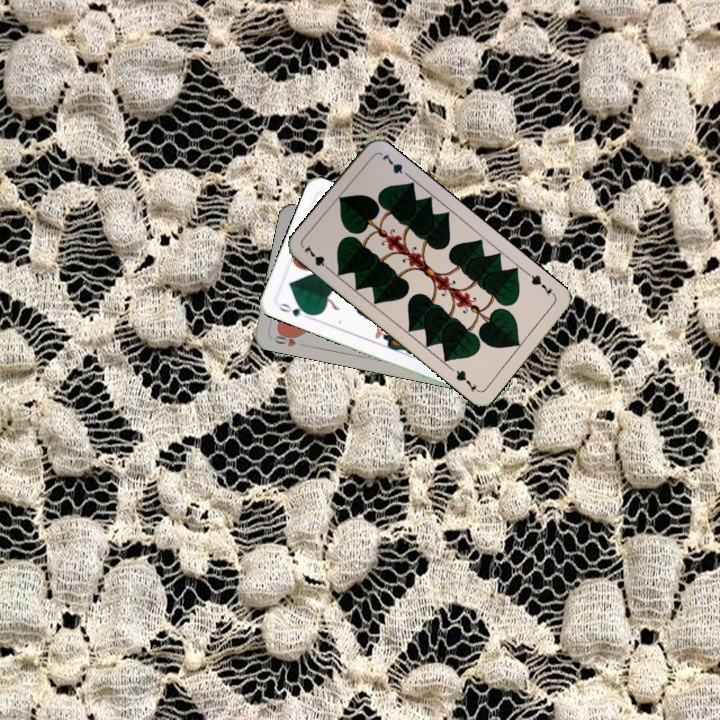G7: (300, 241, 334, 274), (524, 269, 558, 299)
GO: (274, 299, 314, 319)
HO: (270, 328, 302, 349)
